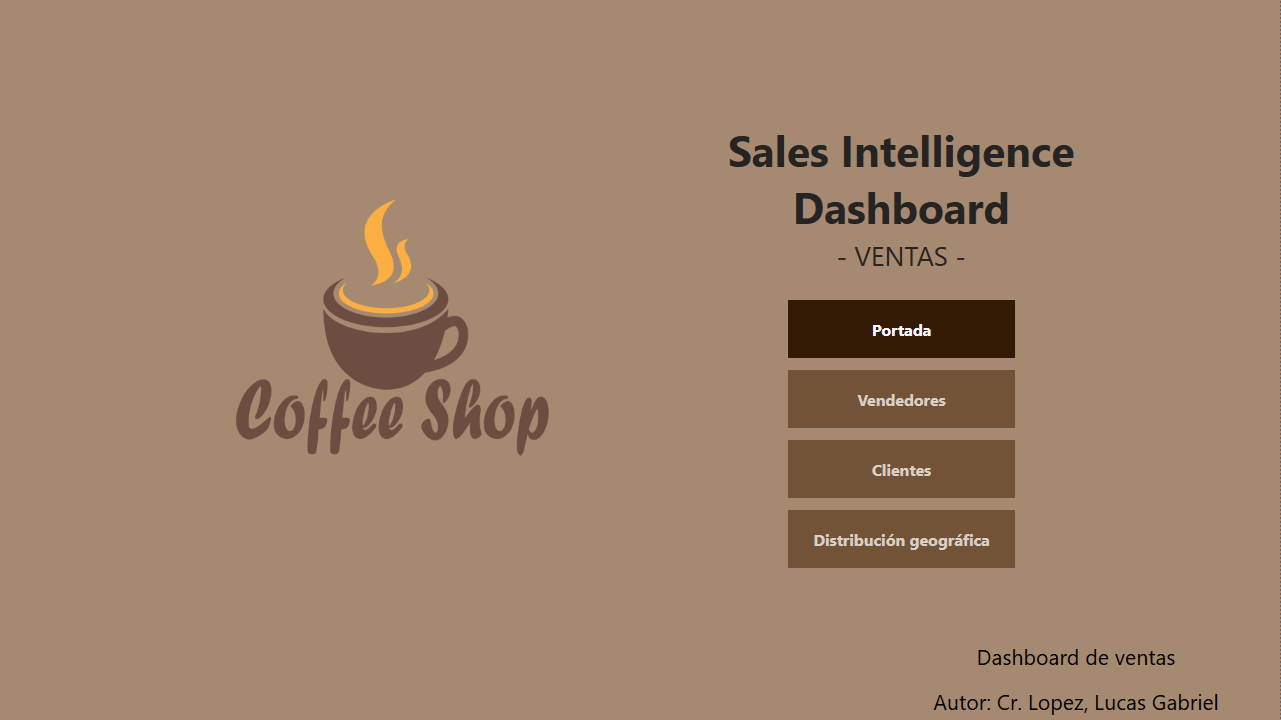

The dashboard page shown, as its layout file describes it:
{"tool":"powerbi","page":{"name":"Portada","canvas":[1280,720],"ordinal":0},"visuals":[{"type":"image","box":[177,112,429.9,432.8],"z":0},{"type":"textbox","box":[654.4,115.9,493.1,164.4],"z":1000},{"type":"textbox","box":[697.2,231.7,407.5,58.4],"z":2000},{"type":"pageNavigator","box":[786.7,298.8,229.5,272.3],"z":3000},{"type":"textbox","box":[872,620,408,100],"z":4000}]}

Visuals, with their boxes in screenshot pixels (x1, y1, x2, y2), scaled from the page's 1280x720 canvas onto the 1281x720 screenshot:
image: locate(177, 112, 607, 545)
textbox: locate(655, 116, 1148, 280)
textbox: locate(698, 232, 1106, 290)
pageNavigator: locate(787, 299, 1017, 571)
textbox: locate(873, 620, 1280, 719)
